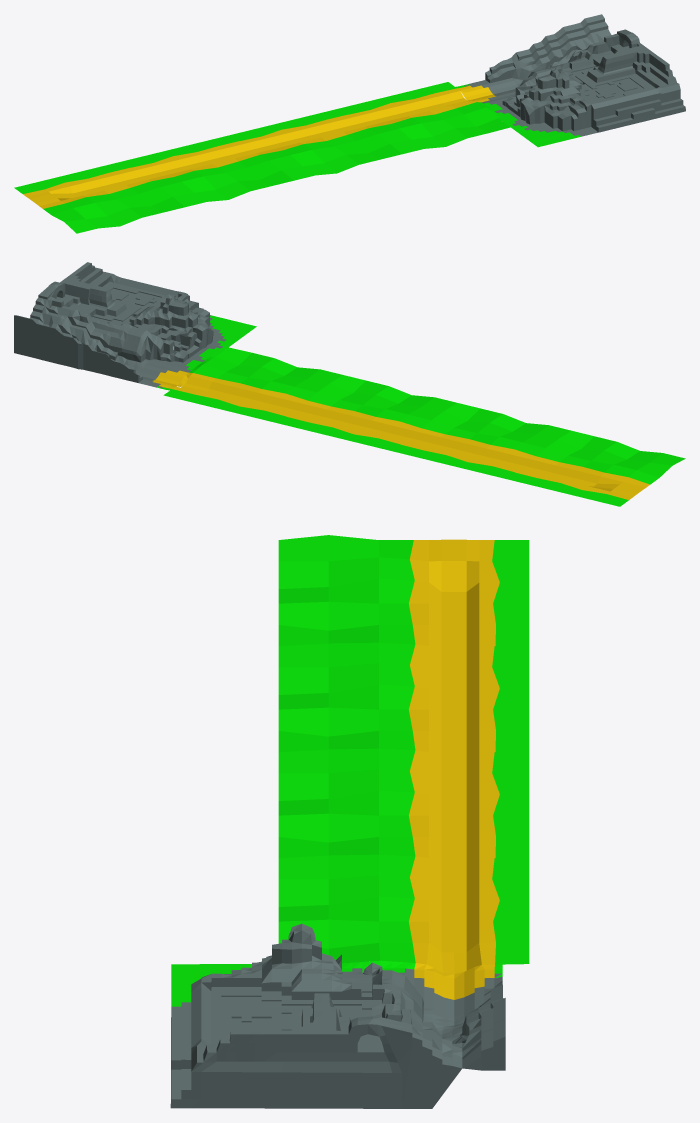
File: GroundBetter.fbx
3 renders of one model, top to bottom at view 1: azimuth 30°, elevation 25°; view 2: azimuth 150°, elevation 25°; view 3: azimuth 270°, elevation 25°, orthographic. The views are drawn at different scales.
Visible parts, largest first — view 1: Ground:Ground; view 2: Ground:Ground; view 3: Ground:Ground.
Boxes of the visible parts, bbox=[...] form: Ground:Ground: bbox=[14, 14, 685, 233]; Ground:Ground: bbox=[14, 262, 685, 506]; Ground:Ground: bbox=[170, 535, 529, 1108].
Size of the model in its own units: 536 by 41.92 by 143.
